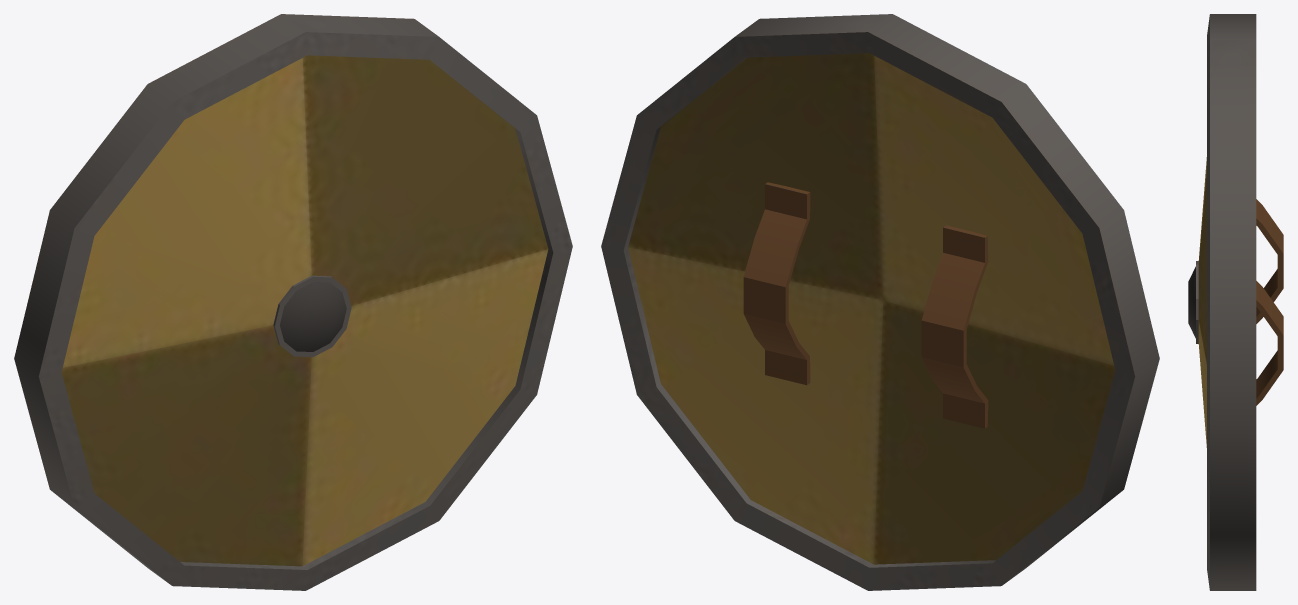
The model's file is Round Shield_Yellow.fbx.
3 views of the same model, side by side, from view 1: azimuth 30°, elevation 25°; view 2: azimuth 150°, elevation 25°; view 3: azimuth 270°, elevation 25° (orthographic). The views are drawn at different scales.
Parts seen in each view (by area): view 1: Round Shield_Yellow_Baked; view 2: Round Shield_Yellow_Baked; view 3: Round Shield_Yellow_Baked.
Part boxes in pixels (left/top/right/bottom): Round Shield_Yellow_Baked: left=14, top=14, right=572, bottom=590; Round Shield_Yellow_Baked: left=601, top=14, right=1159, bottom=590; Round Shield_Yellow_Baked: left=1188, top=14, right=1283, bottom=590.
Size of the model in its own units: 60 by 60 by 9.87.
1 material, 1 textured.
